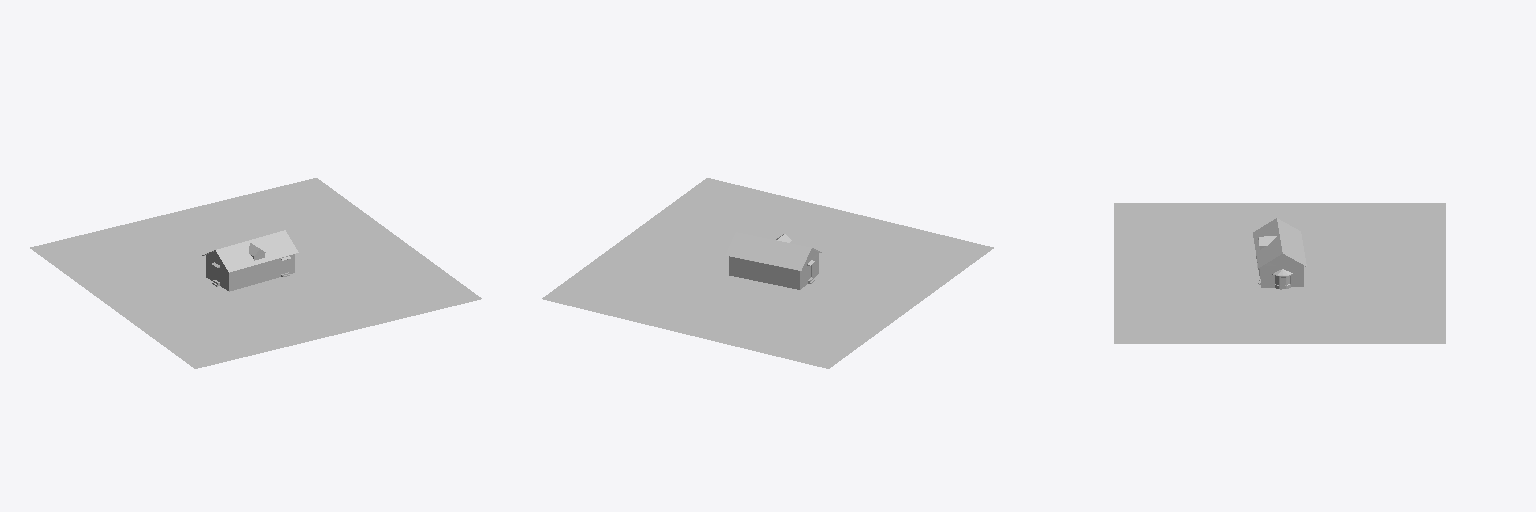
3 views of the same model, side by side, from view 1: azimuth 30°, elevation 25°; view 2: azimuth 150°, elevation 25°; view 3: azimuth 270°, elevation 25° (orthographic).
Parts seen in each view (by area): view 1: ground_Plane.004, Cube_Cube.002; view 2: ground_Plane.004, Cube_Cube.002; view 3: ground_Plane.004, Cube_Cube.002.
Boxes of the visible parts, <box> form: ground_Plane.004: <box>30,178,481,368</box>; Cube_Cube.002: <box>202,230,298,291</box>; ground_Plane.004: <box>542,178,993,368</box>; Cube_Cube.002: <box>725,232,821,289</box>; ground_Plane.004: <box>1114,203,1445,343</box>; Cube_Cube.002: <box>1253,218,1306,289</box>.
Size of the model in its own units: 126 by 14.67 by 126.